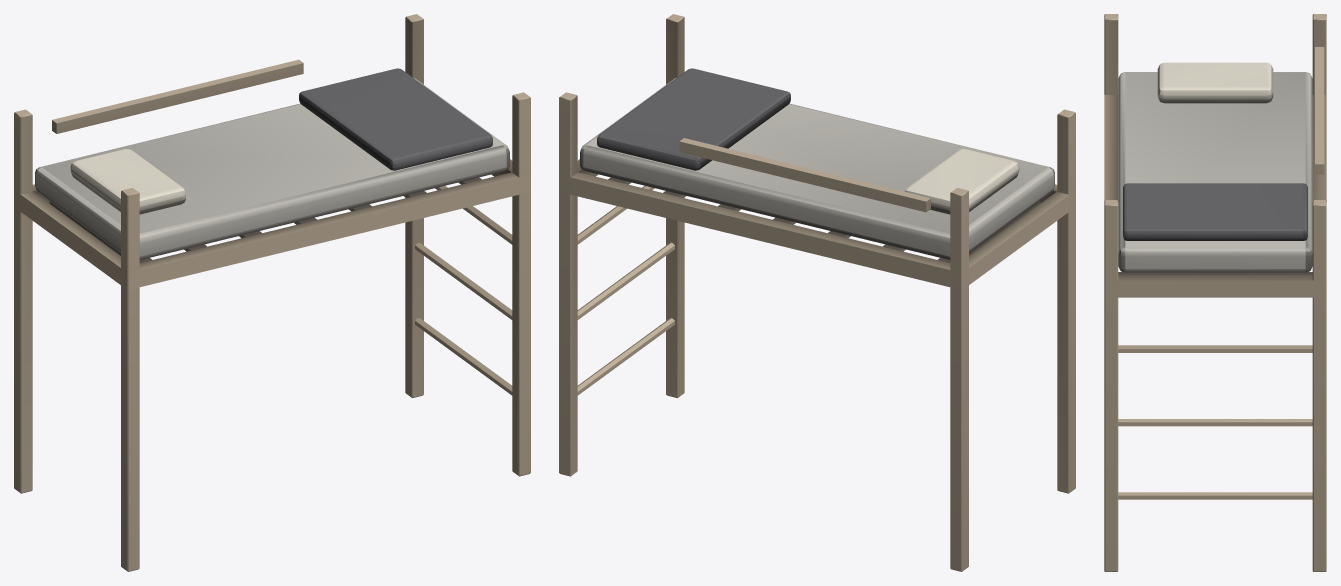
Rendered from obs_bunk.glb.
3 renders of one model, left to right at view 1: azimuth 30°, elevation 25°; view 2: azimuth 150°, elevation 25°; view 3: azimuth 270°, elevation 25°, orthographic. The views are drawn at different scales.
Visible parts, largest first — view 1: static; view 2: static; view 3: static.
Boxes of the visible parts, left/top/right/bottom form: static: left=14, top=14, right=530, bottom=571; static: left=559, top=14, right=1075, bottom=571; static: left=1104, top=14, right=1326, bottom=571.
Size of the model in its own units: 1.96 by 1.75 by 0.96.
